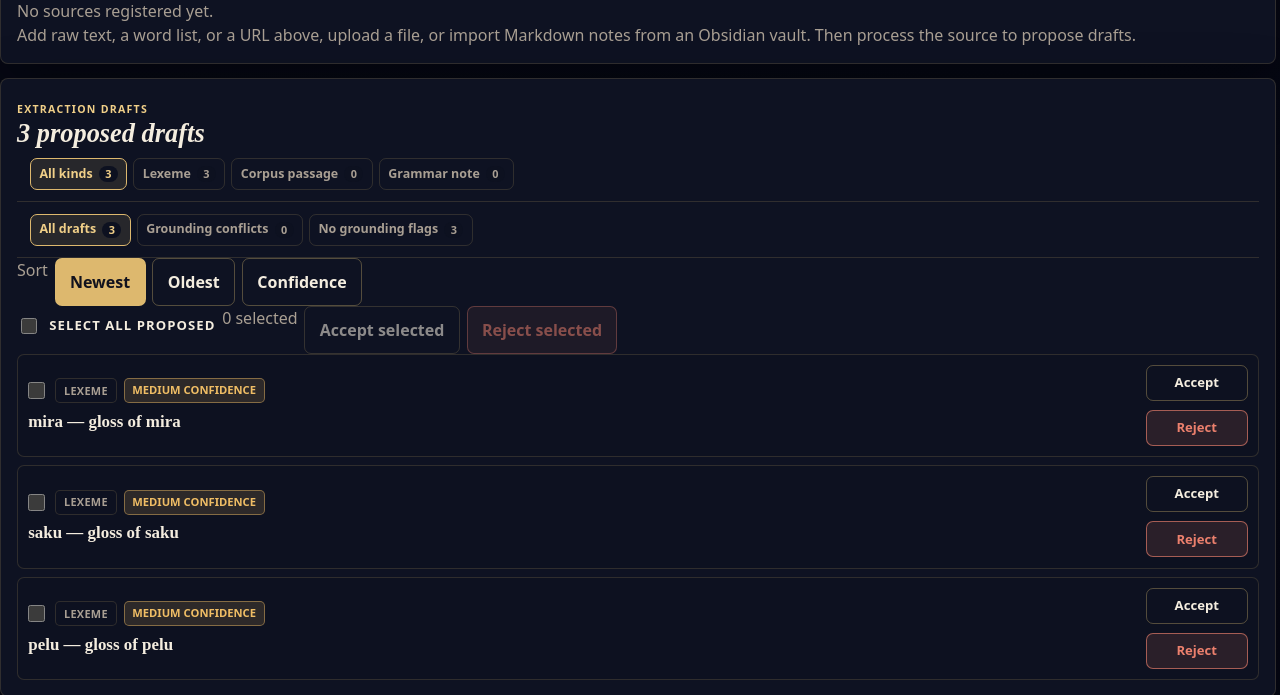
IngestView bulk draft review › shows per-item failures when the bulk review partially fails
The width and height of the screenshot is (1280, 695).
(page scrolled)
Expected: the heading "3 proposed drafts" is shown, [17,119,205,147]
Step 1. Click the checkbox named "Select draft draft-1" → (37, 391), box [28,382,45,399]
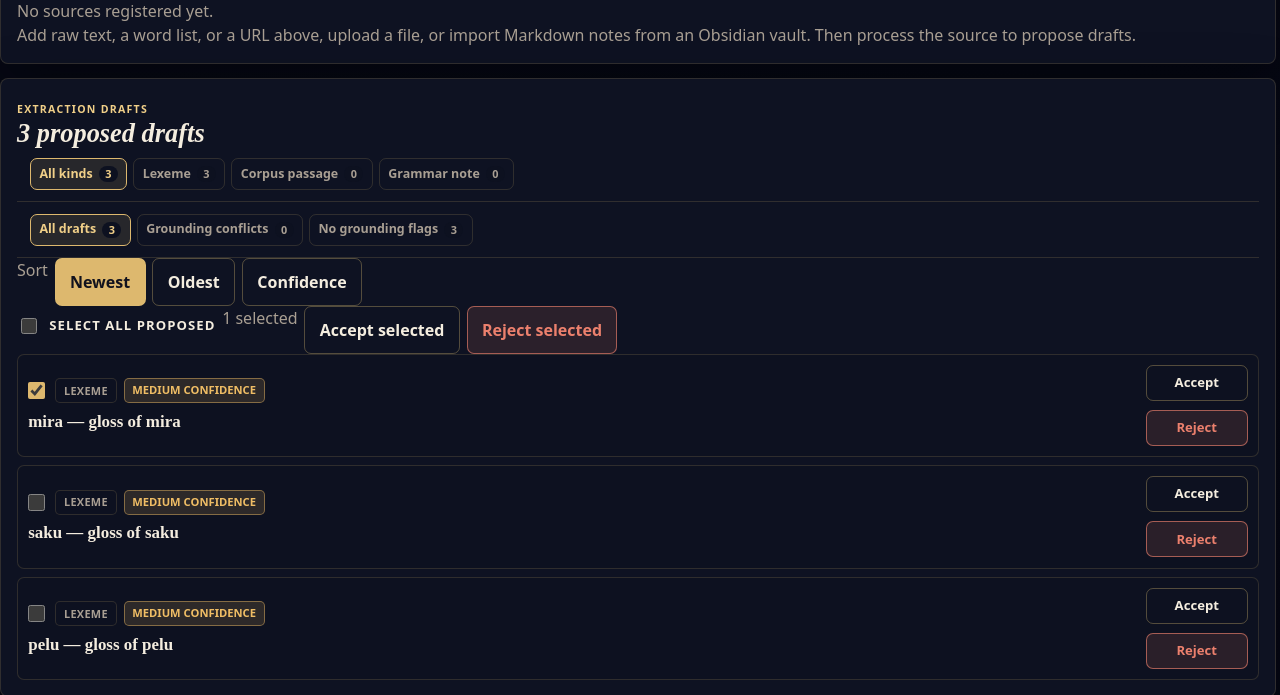
Step 2. Click the checkbox named "Select draft draft-2" → (37, 502), box [28,494,45,511]
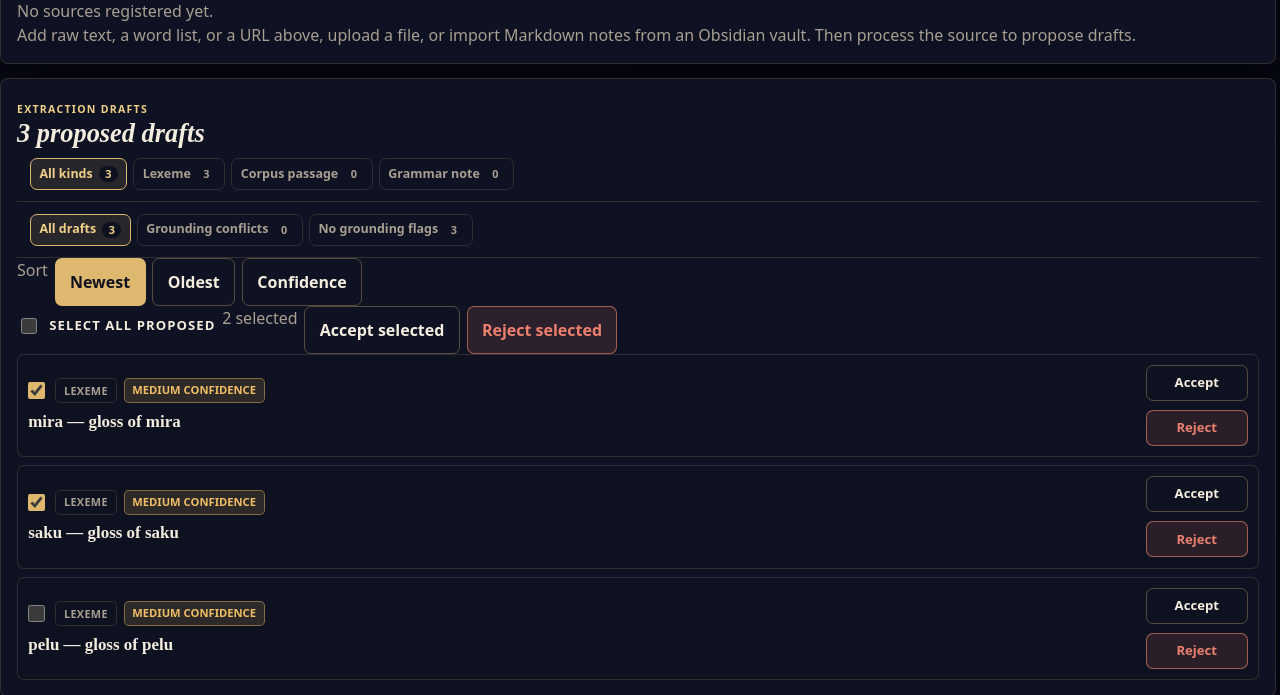
Step 3. Click the button "Accept selected" → (382, 330), box [304,306,460,354]
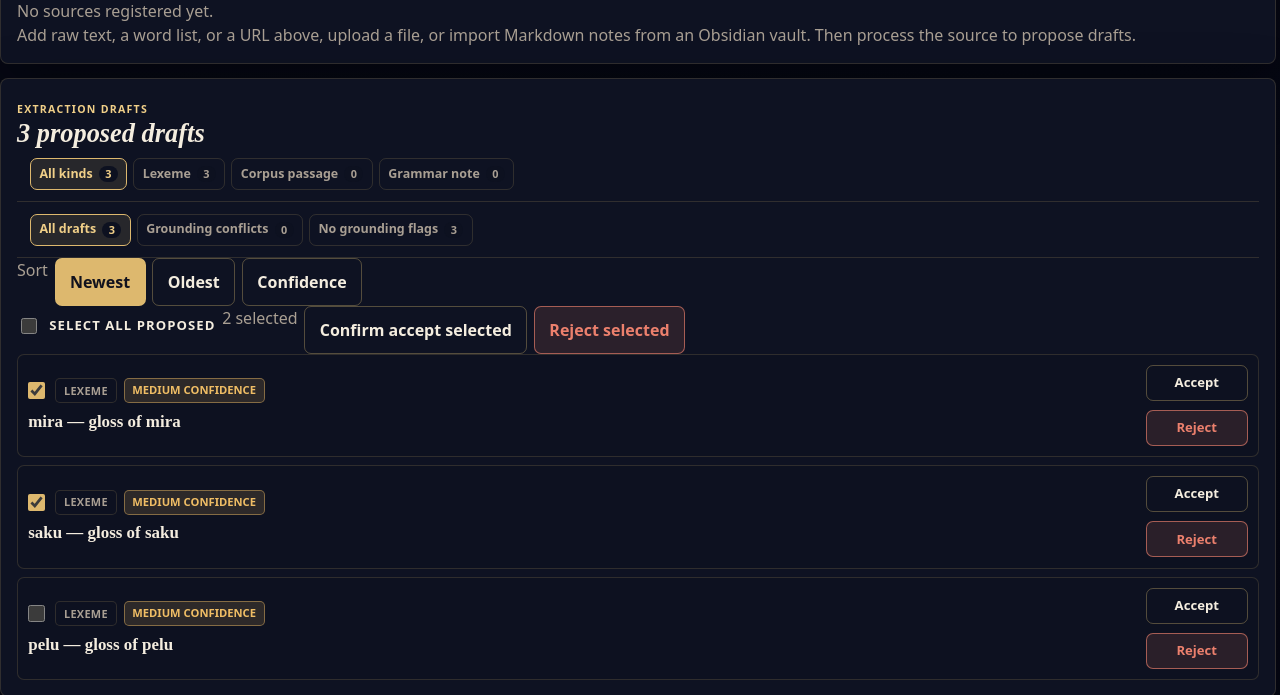
Step 4. Click the button "Confirm accept selected" → (416, 330), box [304,306,527,354]
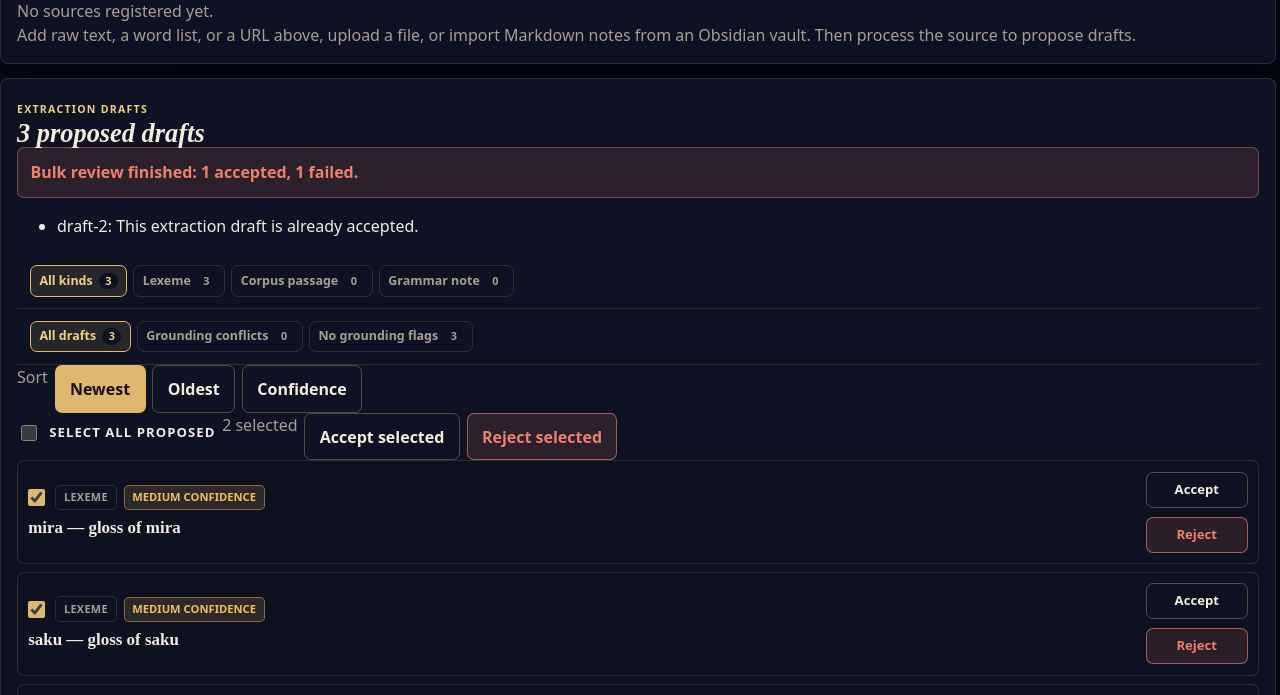
Now the text "Bulk review finished: 1 accepted, 1 failed." is shown, box [17,147,1259,198]
Now the list item "draft-2: This extraction draft is already accepted." is shown, box [57,215,419,237]
